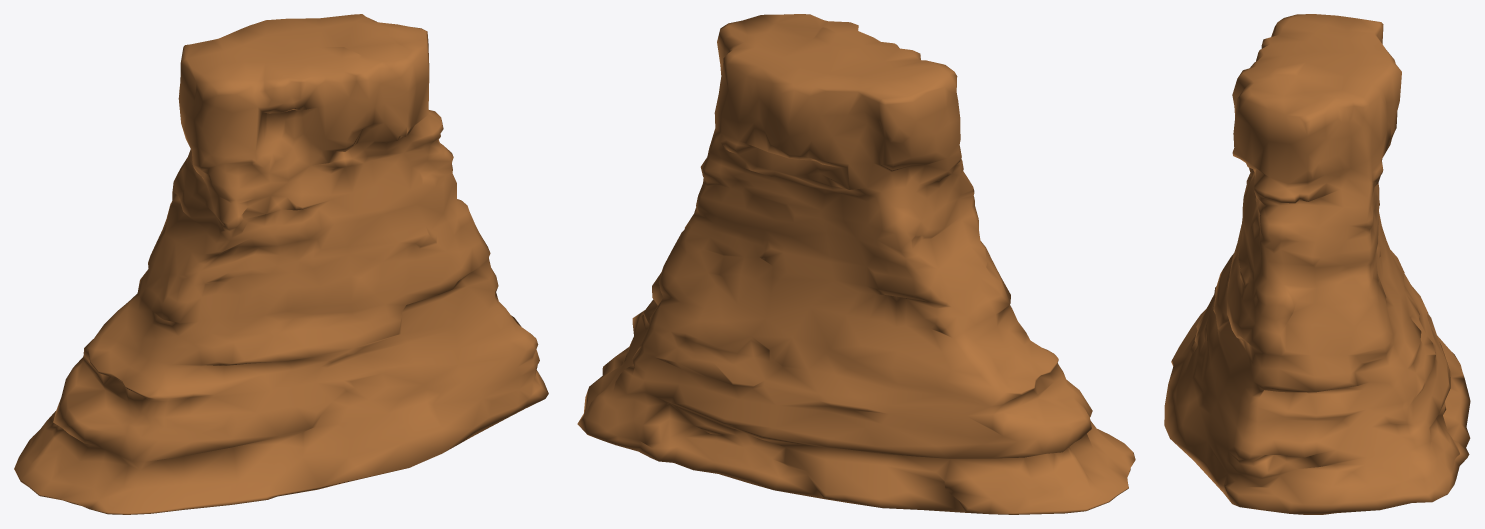
File: MSH_Rocks_Cliff_15_c.FBX
The picture shows the model from 3 angles, left to right: view 1: azimuth 30°, elevation 25°; view 2: azimuth 150°, elevation 25°; view 3: azimuth 270°, elevation 25°; orthographic projection. The views are drawn at different scales.
Parts seen in each view (by area): view 1: MESH_LOD0; view 2: MESH_LOD0; view 3: MESH_LOD0.
Part boxes in pixels (x1=…): MESH_LOD0: x1=14, y1=14, x2=548, y2=514; MESH_LOD0: x1=577, y1=14, x2=1135, y2=514; MESH_LOD0: x1=1164, y1=14, x2=1470, y2=514.
Size of what is drawn, in the model's own units: 674 by 484 by 374.
